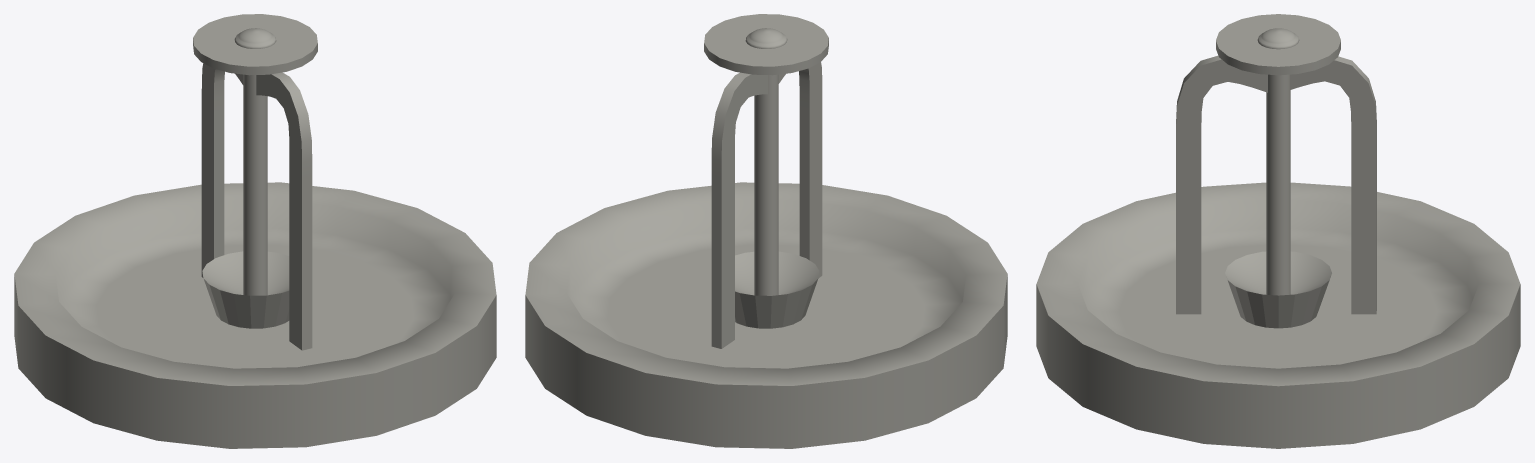
Rendered from watersproeier FBX.fbx.
3 views of the same model, side by side, from view 1: azimuth 30°, elevation 25°; view 2: azimuth 150°, elevation 25°; view 3: azimuth 270°, elevation 25° (orthographic).
Parts seen in each view (by area): view 1: basis, lijding_1, kop, leider, lijding_2, schroef; view 2: basis, lijding_2, kop, leider, lijding_1, schroef; view 3: basis, lijding_1, lijding_2, kop, leider, schroef.
Part boxes in pixels (<box>): basis: <box>14,182,496,448</box>; lijding_1: <box>256,72,312,350</box>; kop: <box>193,14,317,75</box>; leider: <box>243,74,267,295</box>; lijding_2: <box>201,63,243,277</box>; schroef: <box>234,28,276,48</box>; basis: <box>525,182,1007,448</box>; lijding_2: <box>711,72,767,348</box>; kop: <box>704,14,828,75</box>; leider: <box>754,74,778,295</box>; lijding_1: <box>778,62,822,277</box>; schroef: <box>745,28,787,48</box>; basis: <box>1036,182,1520,448</box>; lijding_1: <box>1176,55,1267,314</box>; lijding_2: <box>1290,56,1376,314</box>; kop: <box>1216,14,1340,75</box>; leider: <box>1266,74,1290,295</box>; schroef: <box>1257,28,1299,49</box>.
Size of the model in its own units: 2 by 1.44 by 2.
